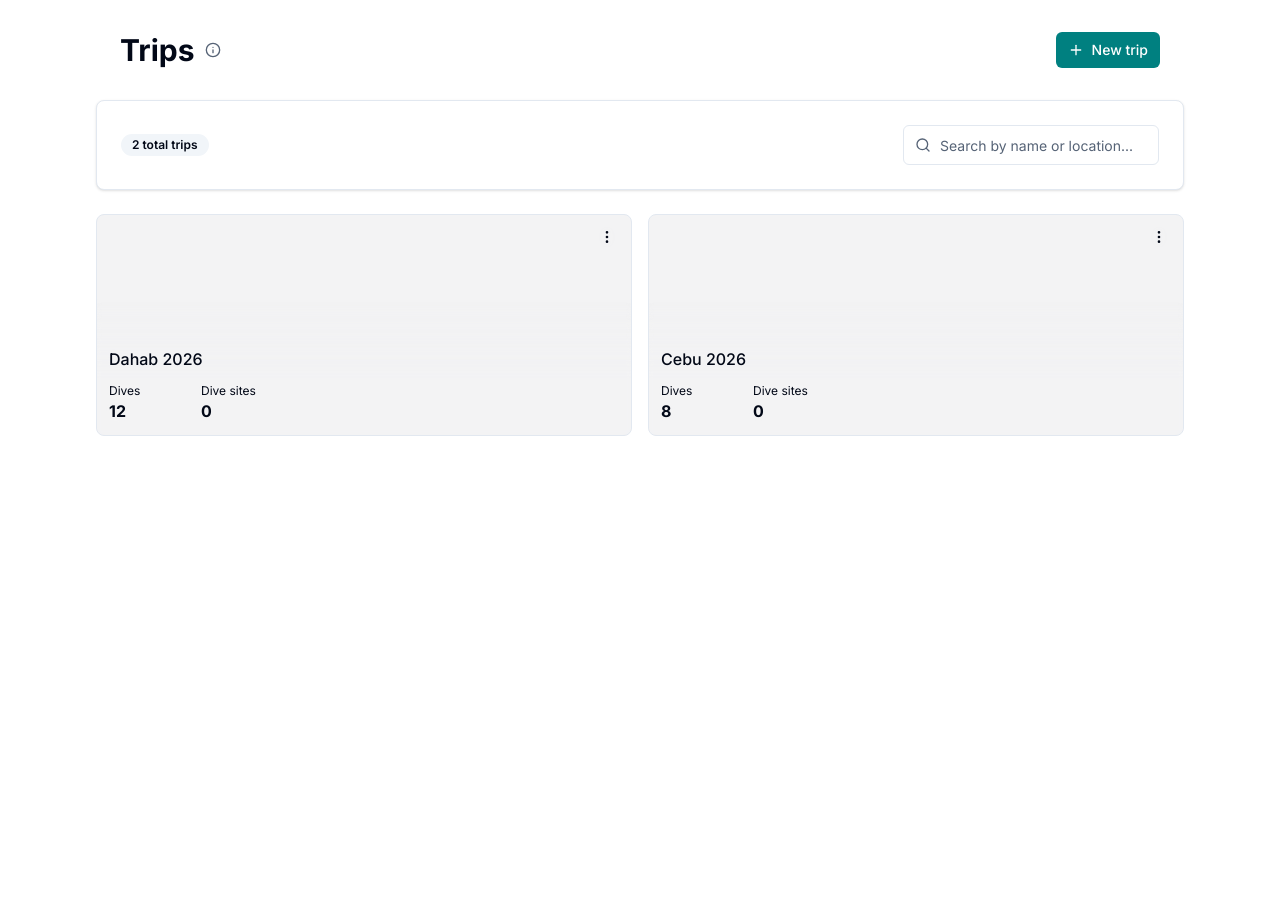
Test case: TripsPageContent › drops only the deleted card when nothing moved
The image size is (1280, 900).
Expected: the link "Dahab 2026" is shown, [109,349,203,369]
What coordinates should you click on to do the following:
click the button named "Actions for Dahab 2026"
I would click on:
 (607, 237)
Its box is [587,219,627,255].
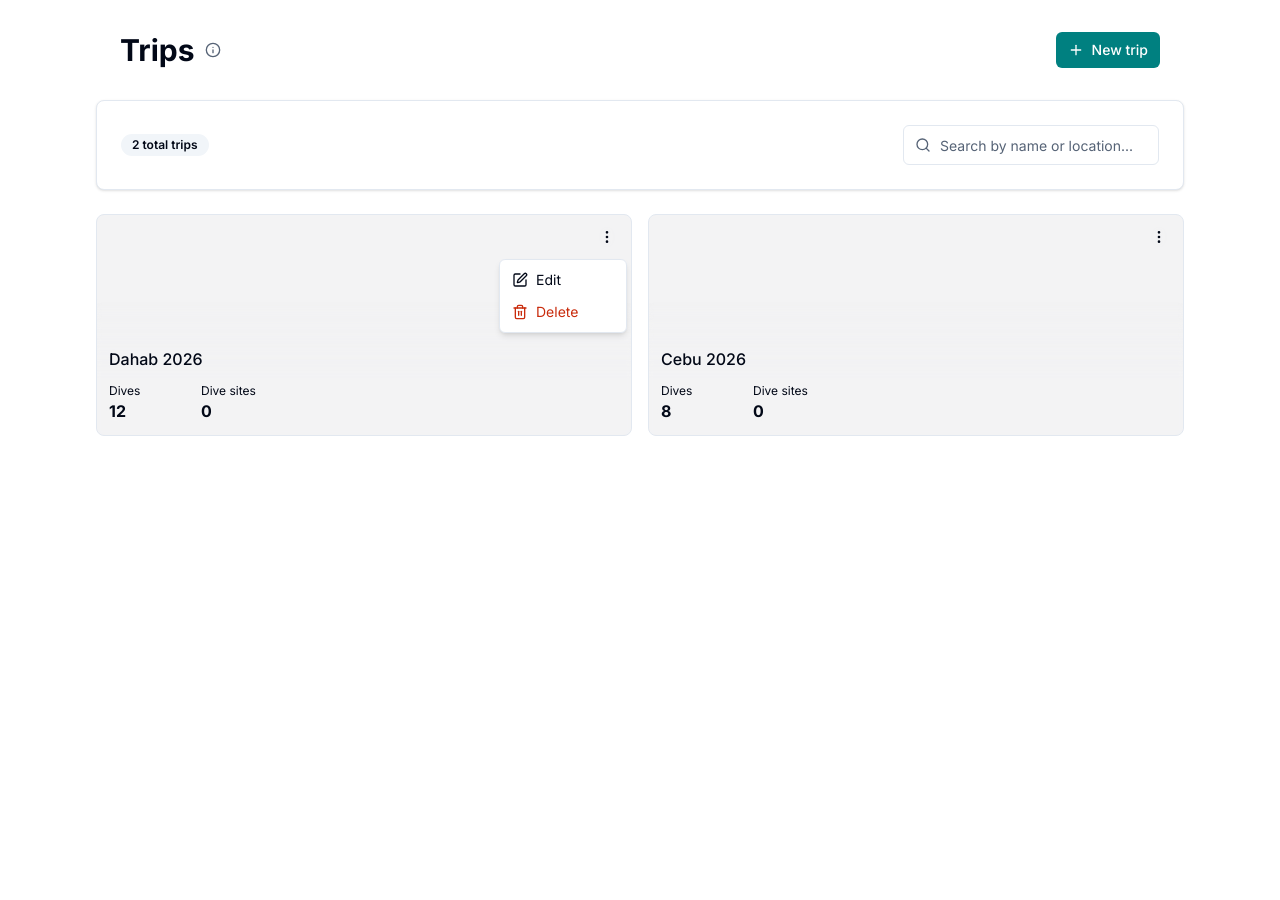
What coordinates should you click on to do the following:
click the menu item "Delete"
I would click on:
 (545, 312)
Its box is [512,303,578,320].
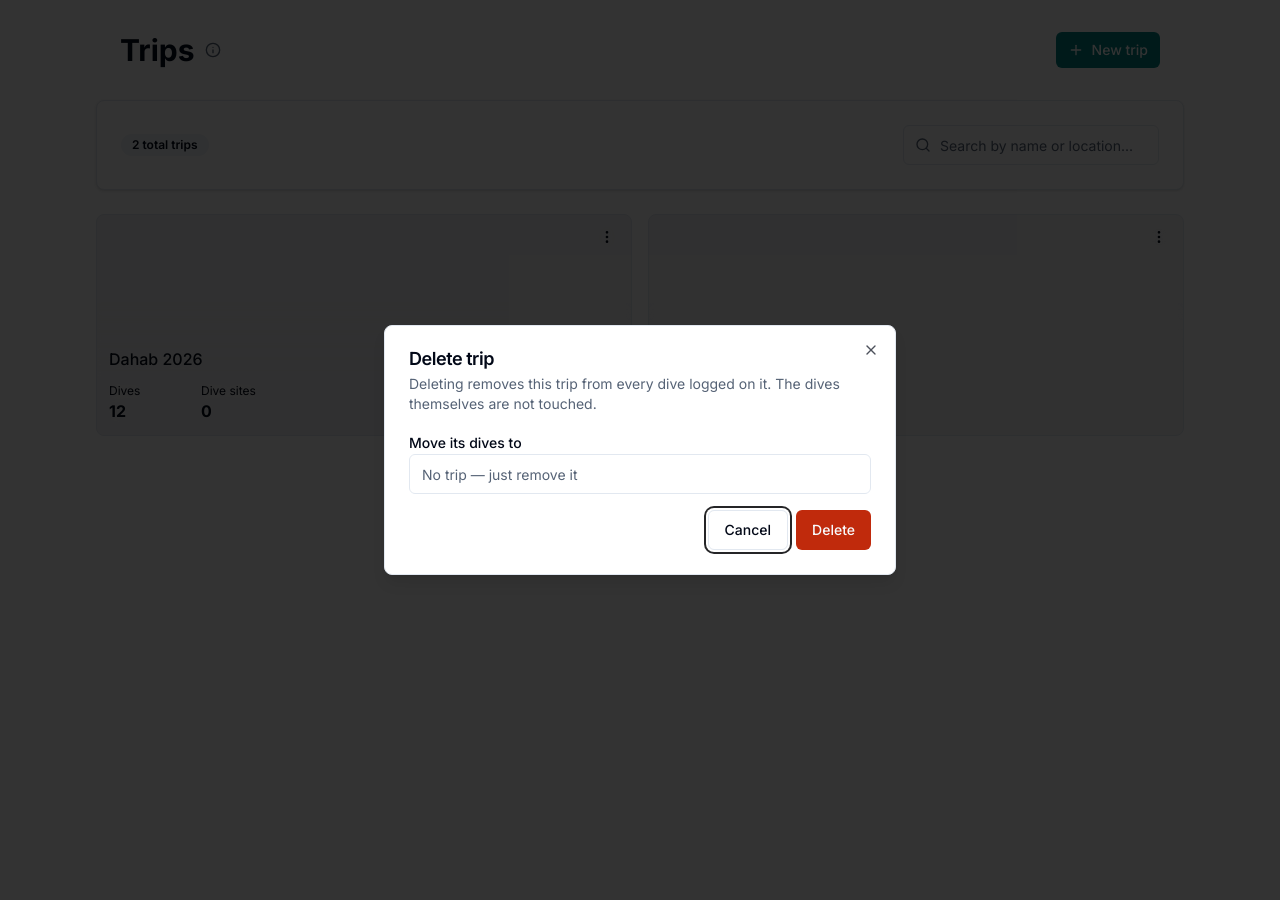
What coordinates should you click on to do the following:
click the button "Delete"
I would click on:
 (834, 530)
Its box is [796,510,871,550].
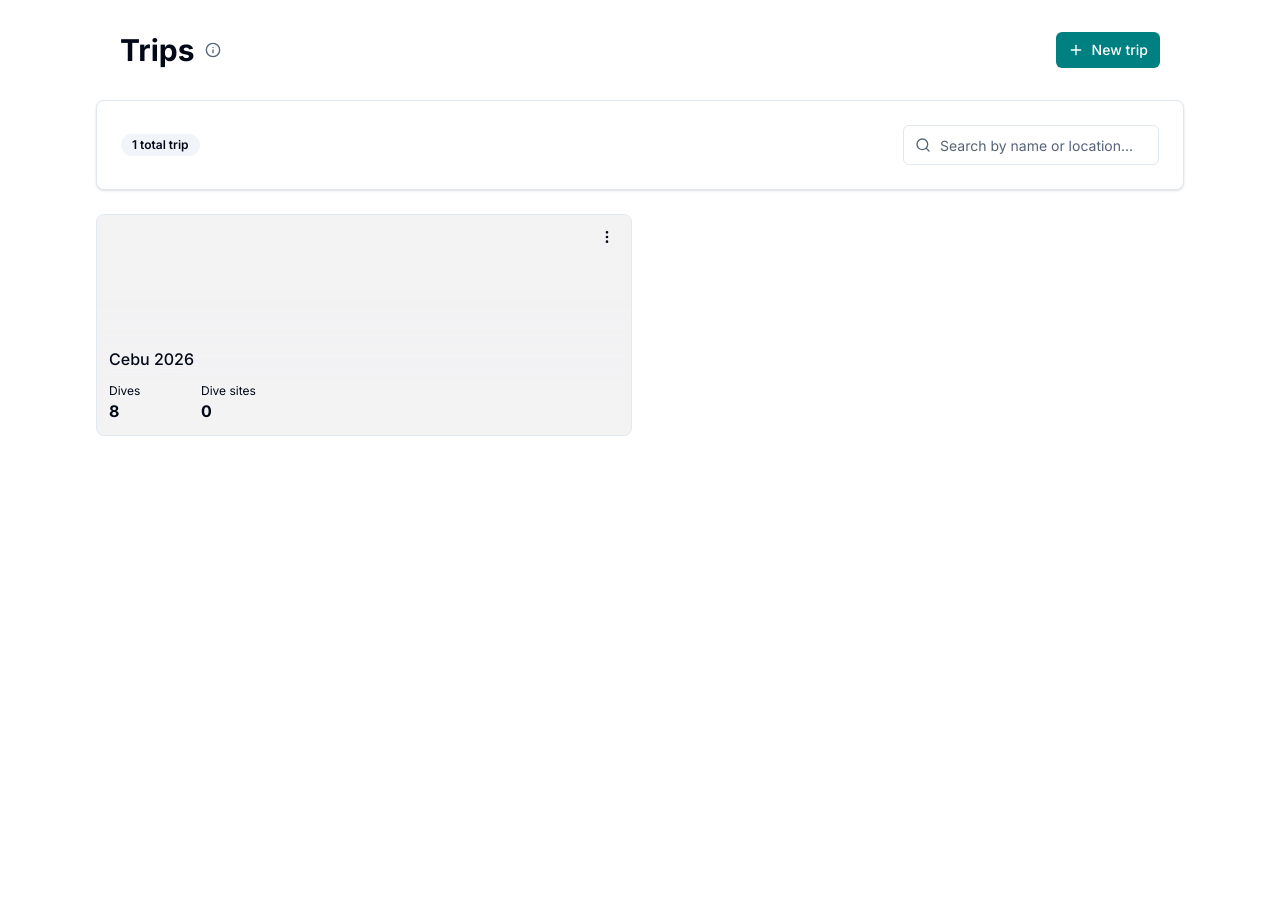
Expected: the link "Cebu 2026" is shown, [109,349,194,369]
Result: the link "Dahab 2026" is gone
